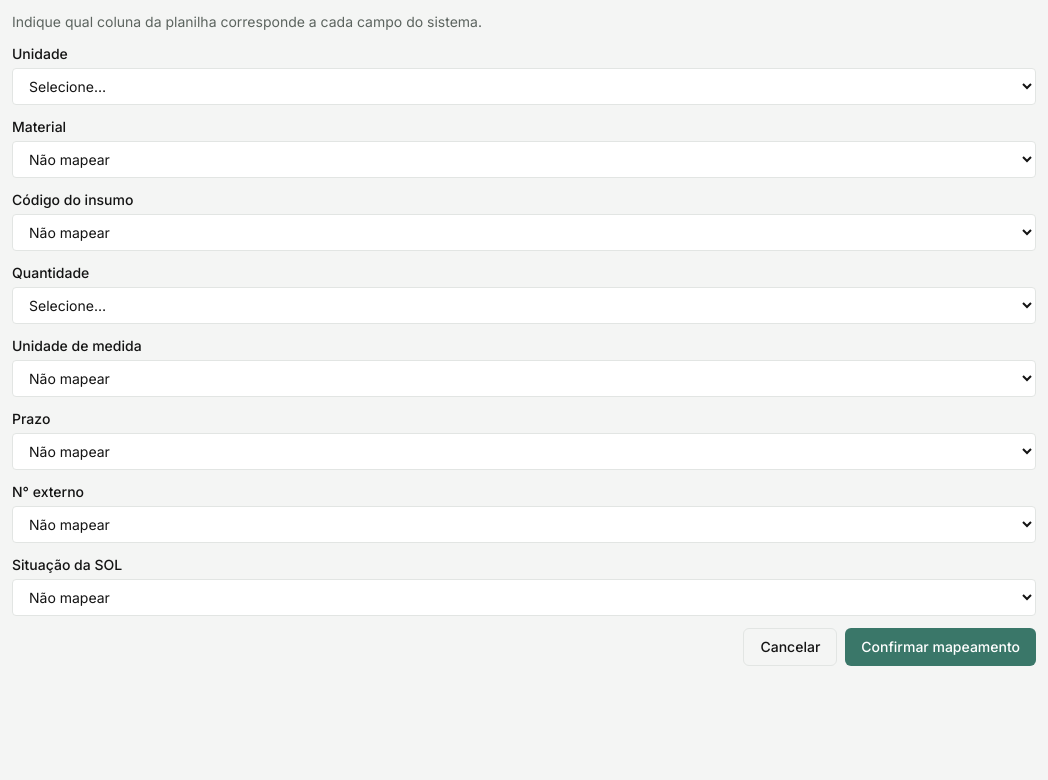
Test case: ImportMappingForm › exige o valor de "aberto" quando a coluna de situação é mapeada
Select "Obra" in the dropdown labelled "Unidade" at x=524, y=86, box x1=12 y1=68 x2=1036 y2=105
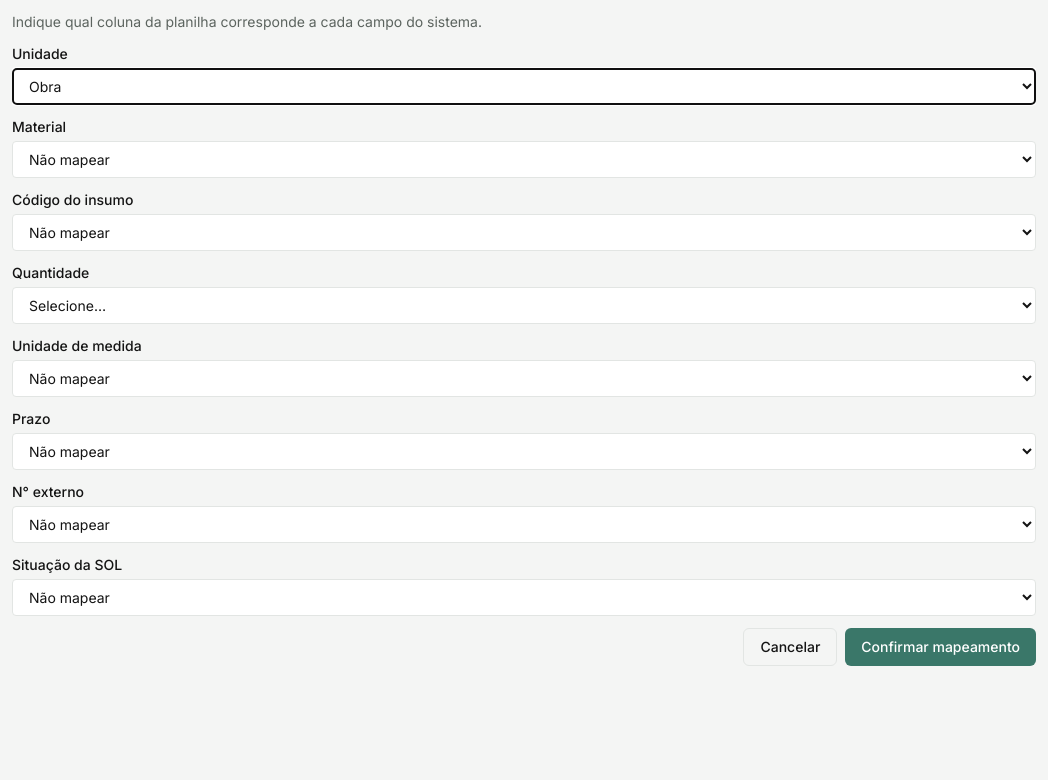
Select "Insumo" in the dropdown labelled "Material" at x=524, y=160, box x1=12 y1=141 x2=1036 y2=178
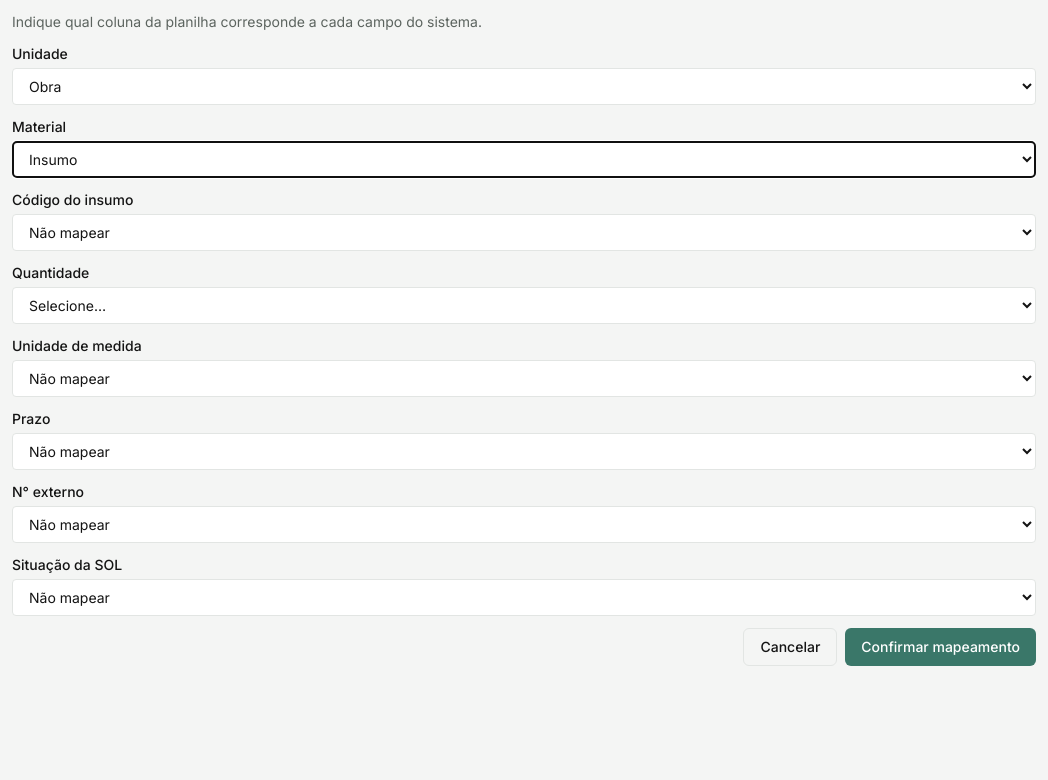
Select "Qtd" in the dropdown labelled "Quantidade" at x=524, y=306, box x1=12 y1=287 x2=1036 y2=324
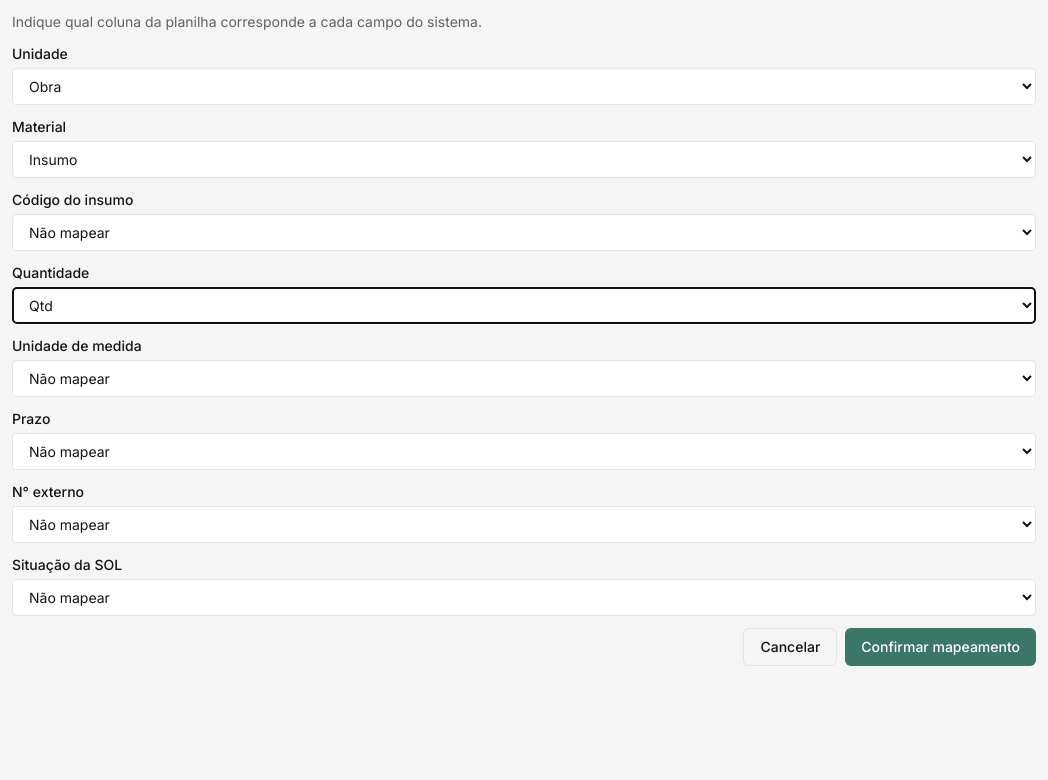
Select "Sit" in the dropdown labelled "Situação da SOL" at x=524, y=598, box x1=12 y1=579 x2=1036 y2=616
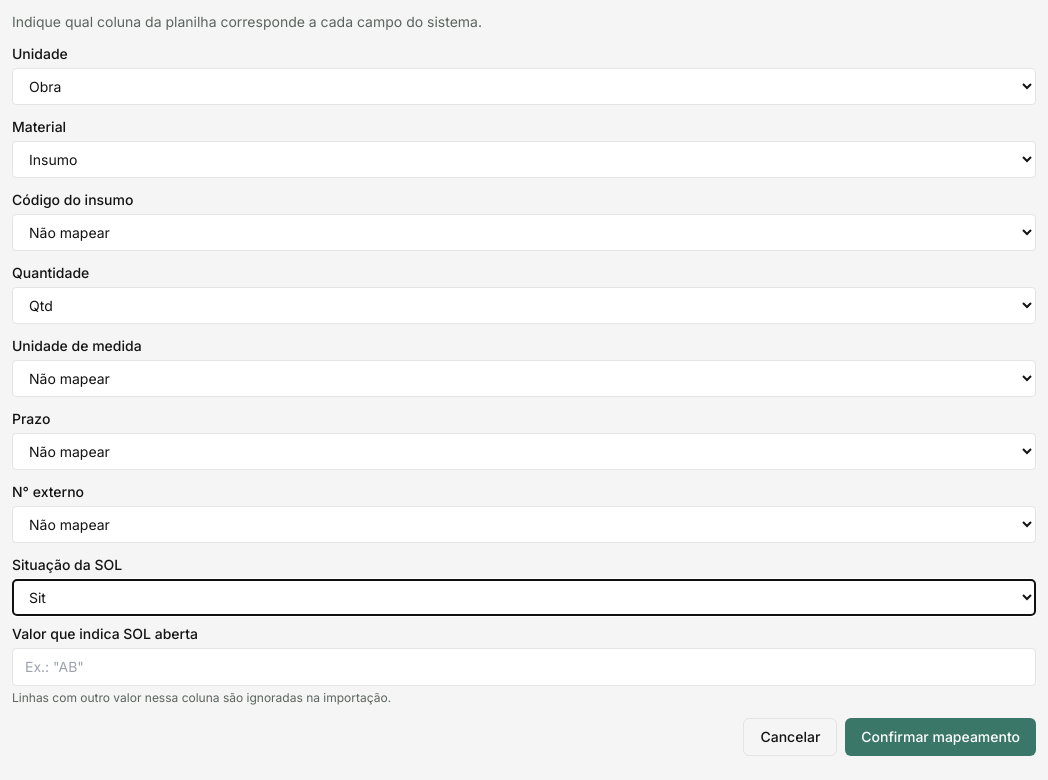
Click the button "Confirmar mapeamento".
click(941, 737)  # box x1=845 y1=718 x2=1036 y2=756
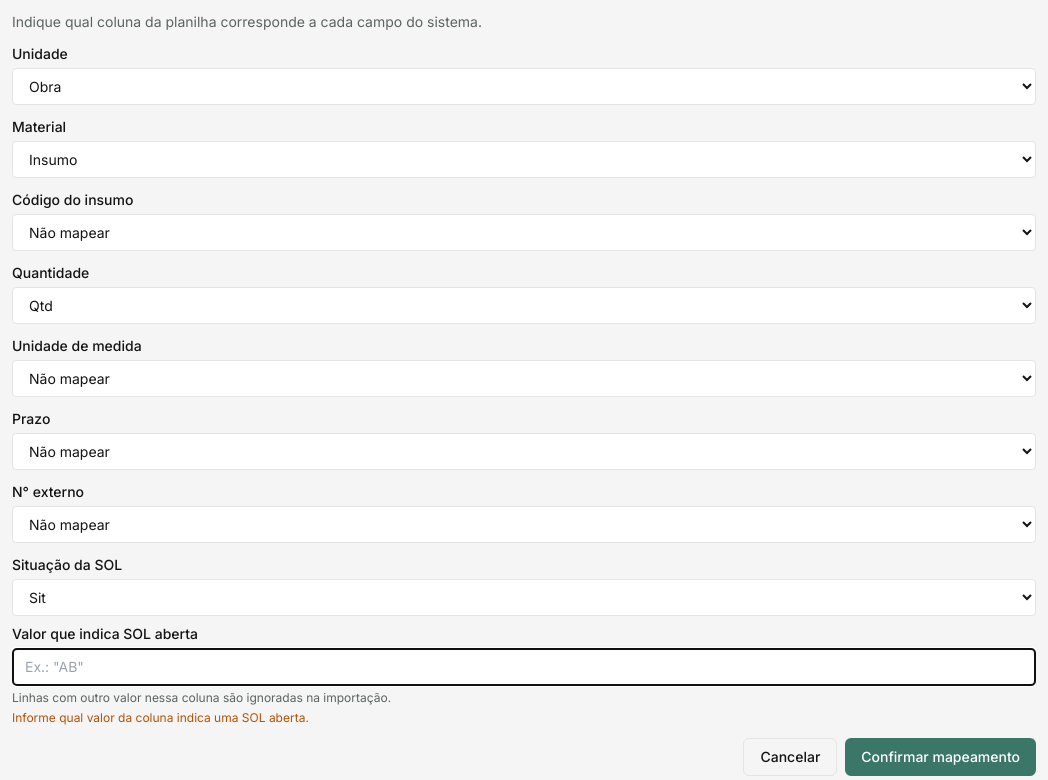
Expected: the text "Informe qual valor da coluna indica uma SOL aberta." is shown, x1=12 y1=710 x2=309 y2=725
